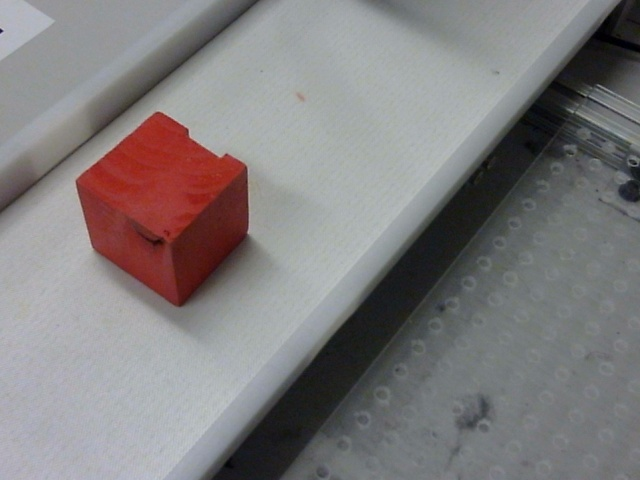RedBlock: (75, 112, 249, 308)
